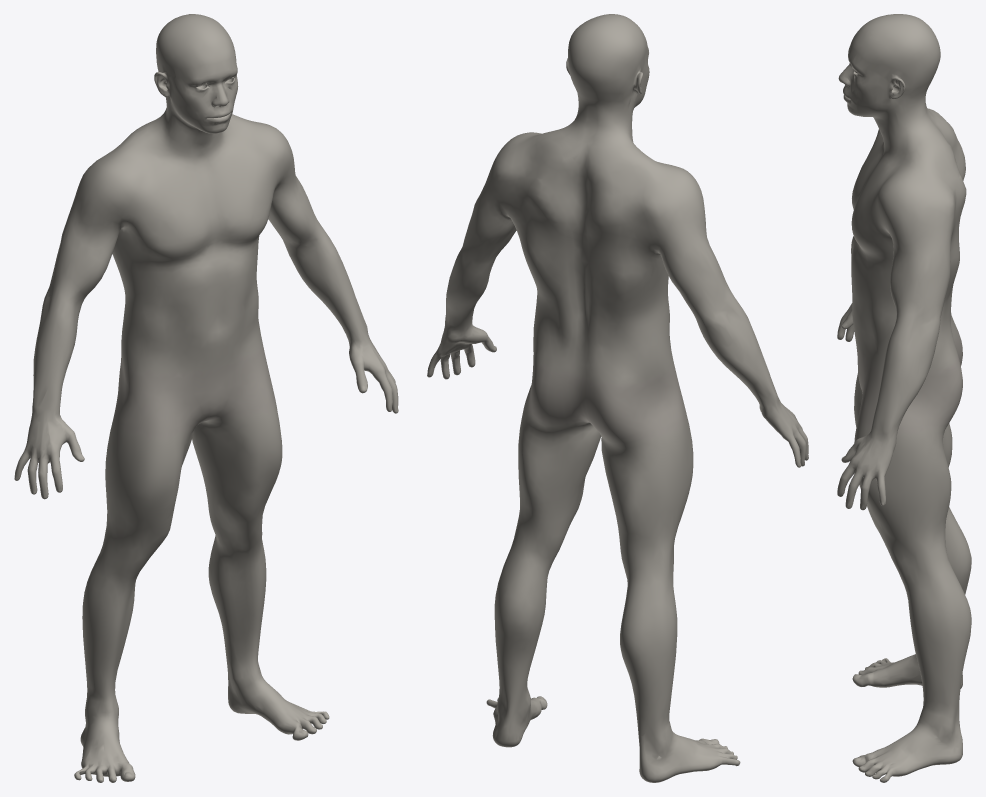
The model's file is male.glb.
3 views of the same model, side by side, from view 1: azimuth 30°, elevation 25°; view 2: azimuth 150°, elevation 25°; view 3: azimuth 270°, elevation 25° (orthographic). The views are drawn at different scales.
Parts seen in each view (by area): view 1: body; view 2: body; view 3: body.
Boxes of the visible parts, x1,y1,x2,y2 form: body: (14, 14, 398, 782); body: (427, 14, 808, 782); body: (837, 14, 971, 782).
Size of what is drawn, in the model's own units: 0.9284 by 1.72 by 0.2956.
1 material, 1 textured.
